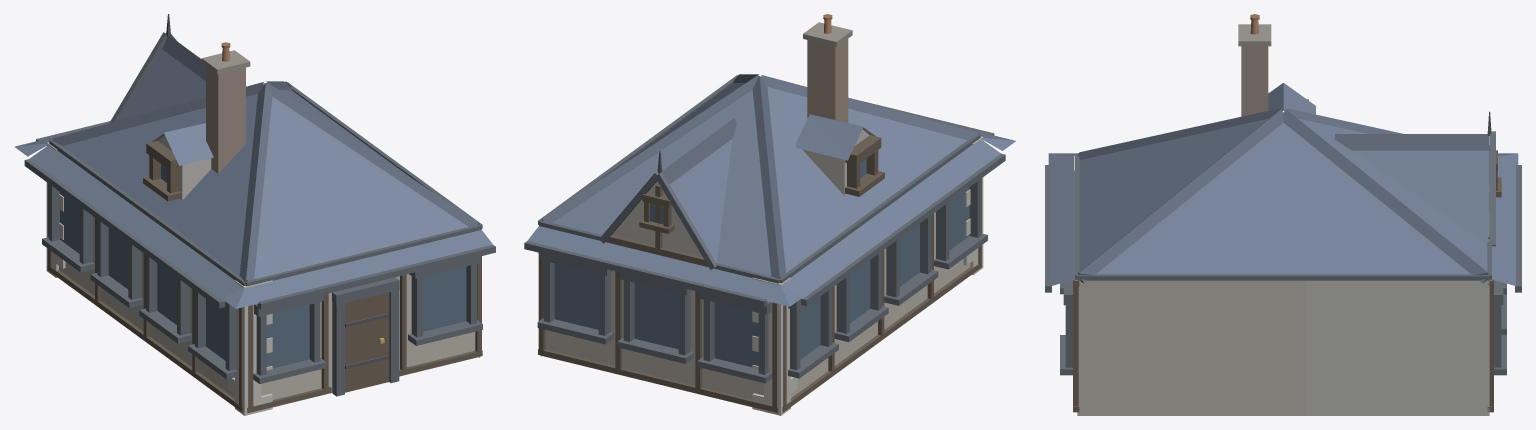
File: b084_closed.glb
The picture shows the model from 3 angles, left to right: view 1: azimuth 30°, elevation 25°; view 2: azimuth 150°, elevation 25°; view 3: azimuth 270°, elevation 25°; orthographic projection. The views are drawn at different scales.
Parts seen in each view (by area): view 1: B084_visible; view 2: B084_visible; view 3: B084_visible.
Part boxes in pixels (x1,y1,x2,y2): B084_visible: (14, 14, 495, 415); B084_visible: (524, 14, 1015, 415); B084_visible: (1045, 14, 1521, 415).
Bounding box in the file's own units: 6.93 × 7.33 × 10.18.
